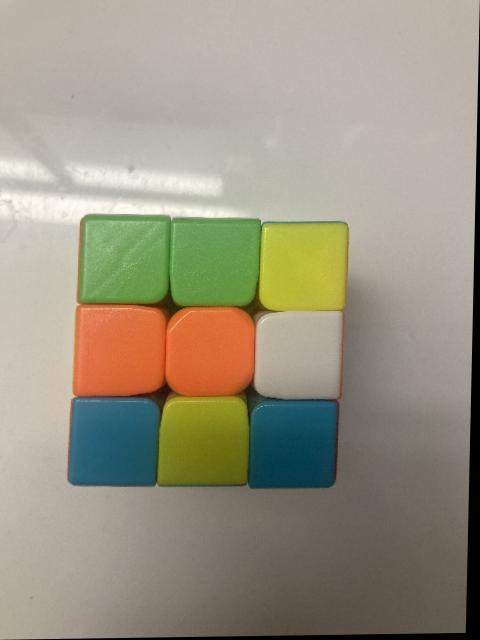Blue: (73, 400, 159, 484), (257, 402, 339, 488)
Green: (79, 220, 170, 303), (178, 222, 257, 304)
Orange: (81, 310, 163, 395), (173, 312, 255, 395)
White: (259, 315, 342, 401)
Yellow: (263, 225, 348, 312), (165, 400, 249, 487)
